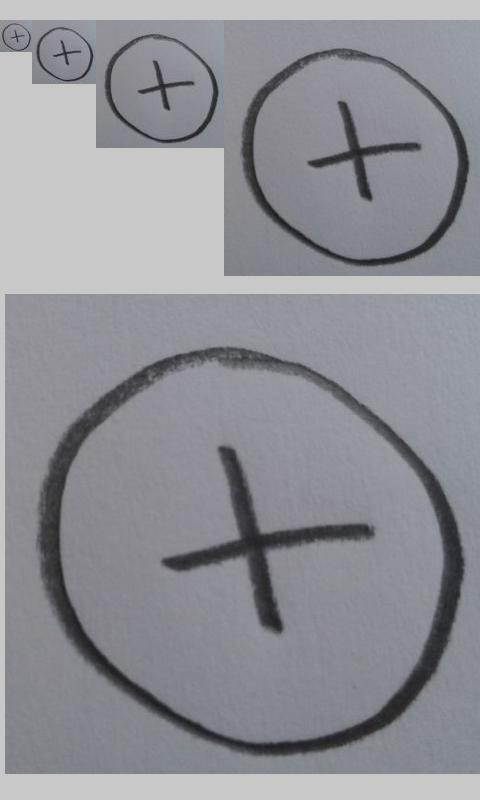button: (37, 344, 468, 759), (240, 48, 469, 268), (105, 33, 219, 143), (36, 27, 93, 82), (2, 23, 31, 51)
